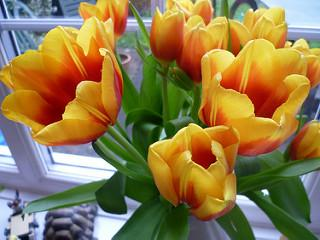tulip: (0, 16, 129, 145), (202, 38, 307, 157), (149, 122, 239, 223), (179, 15, 229, 81), (150, 9, 183, 66)
